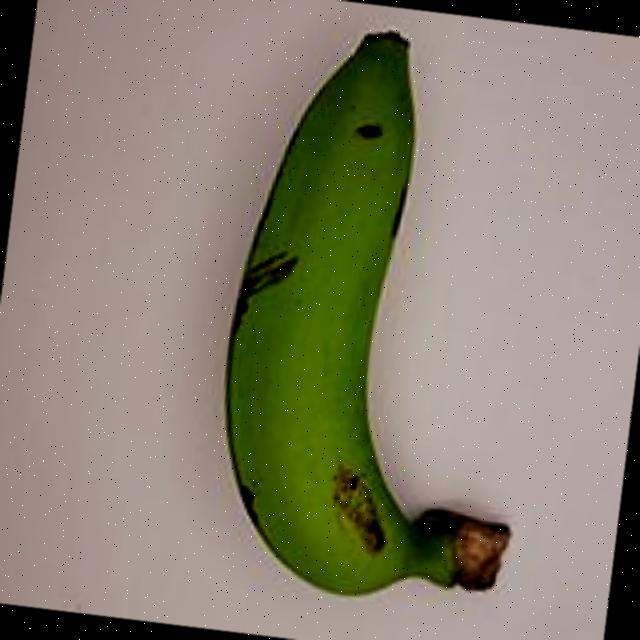Raw: (170, 0, 585, 625)
